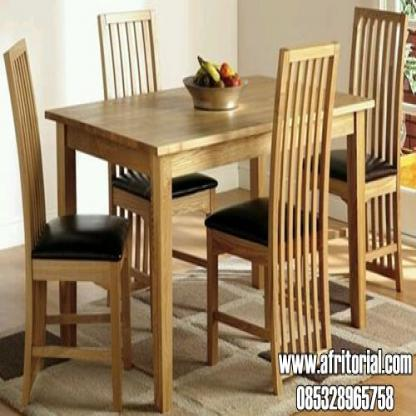Dining Table: (5, 1, 416, 345)
